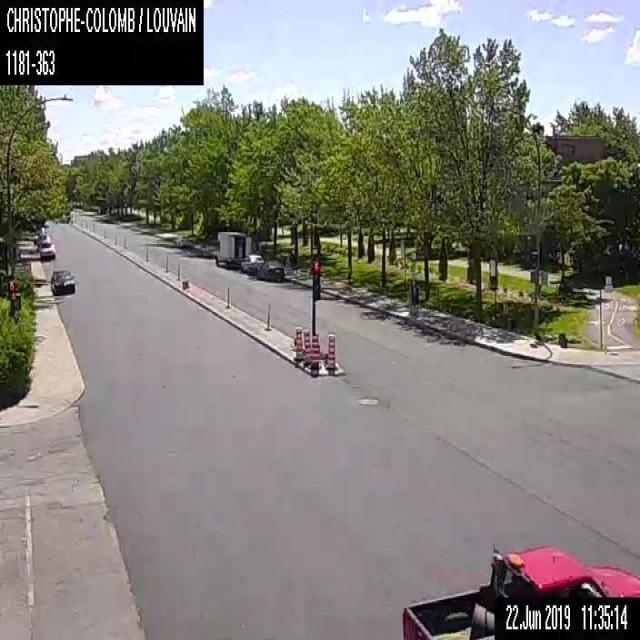construction: (326, 331, 336, 368), (293, 325, 303, 360), (302, 328, 311, 366), (310, 334, 319, 369)
pedestrian: (408, 274, 417, 315), (290, 248, 298, 272), (308, 252, 312, 276)
vehicle: (401, 542, 639, 638), (492, 593, 639, 639), (214, 230, 251, 268), (49, 268, 75, 294), (258, 259, 284, 282), (240, 253, 264, 275), (39, 239, 55, 258), (36, 231, 51, 249), (174, 233, 190, 247)
